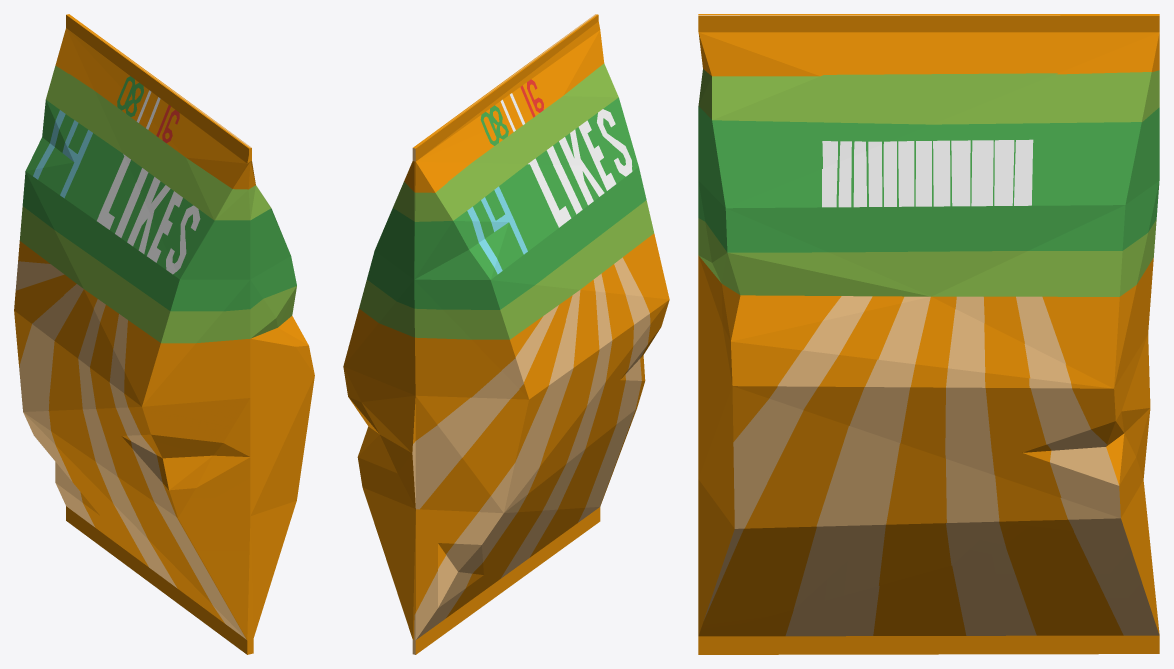
The model's file is chips.fbx.
3 views of the same model, side by side, from view 1: azimuth 30°, elevation 25°; view 2: azimuth 150°, elevation 25°; view 3: azimuth 270°, elevation 25° (orthographic). The views are drawn at different scales.
Visible parts, largest first — view 1: group478861069; view 2: group478861069; view 3: group478861069.
Boxes of the visible parts, <box> form: group478861069: <box>14,14,314,654</box>; group478861069: <box>343,14,669,654</box>; group478861069: <box>698,14,1159,654</box>.
Bounding box in the file's own units: 146 × 393 × 257.
